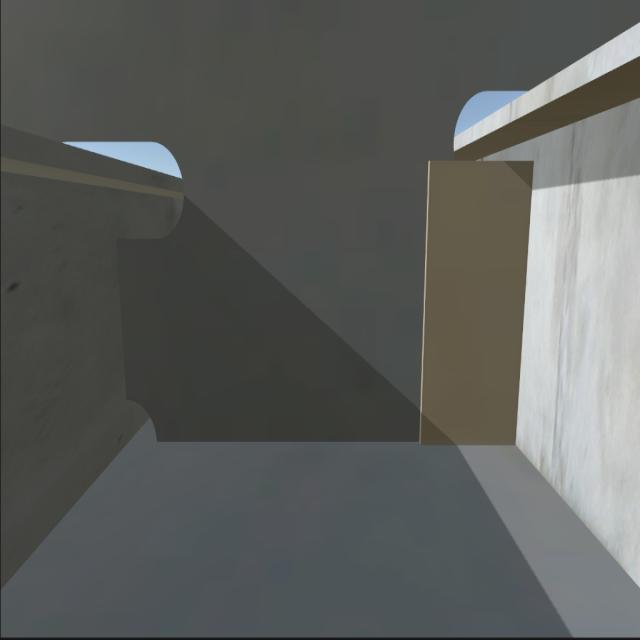fillet_hole: (119, 408, 156, 448)
fillet_yong_jeop_jang: (164, 439, 518, 452)
longi_yong_jeop_jang: (518, 168, 526, 452), (120, 250, 132, 395)
plate_CP01: (424, 165, 518, 442)
